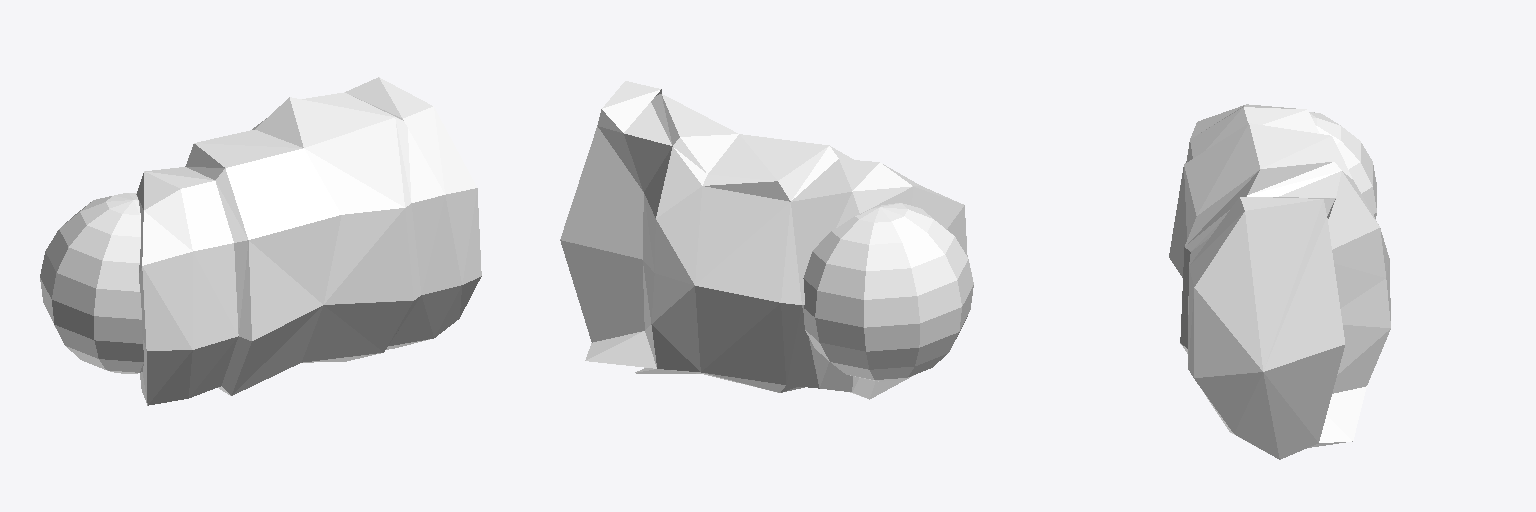
Rendered from LFinger12.obj.
The picture shows the model from 3 angles: view 1: azimuth 30°, elevation 25°; view 2: azimuth 150°, elevation 25°; view 3: azimuth 270°, elevation 25°; orthographic projection.
Parts seen in each view (by area): view 1: LFinger12_JULIETTE_AV_BRAS_.076; view 2: LFinger12_JULIETTE_AV_BRAS_.076; view 3: LFinger12_JULIETTE_AV_BRAS_.076.
Boxes of the visible parts, <box> form: LFinger12_JULIETTE_AV_BRAS_.076: <box>40,77,481,405</box>; LFinger12_JULIETTE_AV_BRAS_.076: <box>560,81,973,399</box>; LFinger12_JULIETTE_AV_BRAS_.076: <box>1169,104,1390,459</box>.
Size of the model in its own units: 0.2753 by 0.1684 by 0.133.